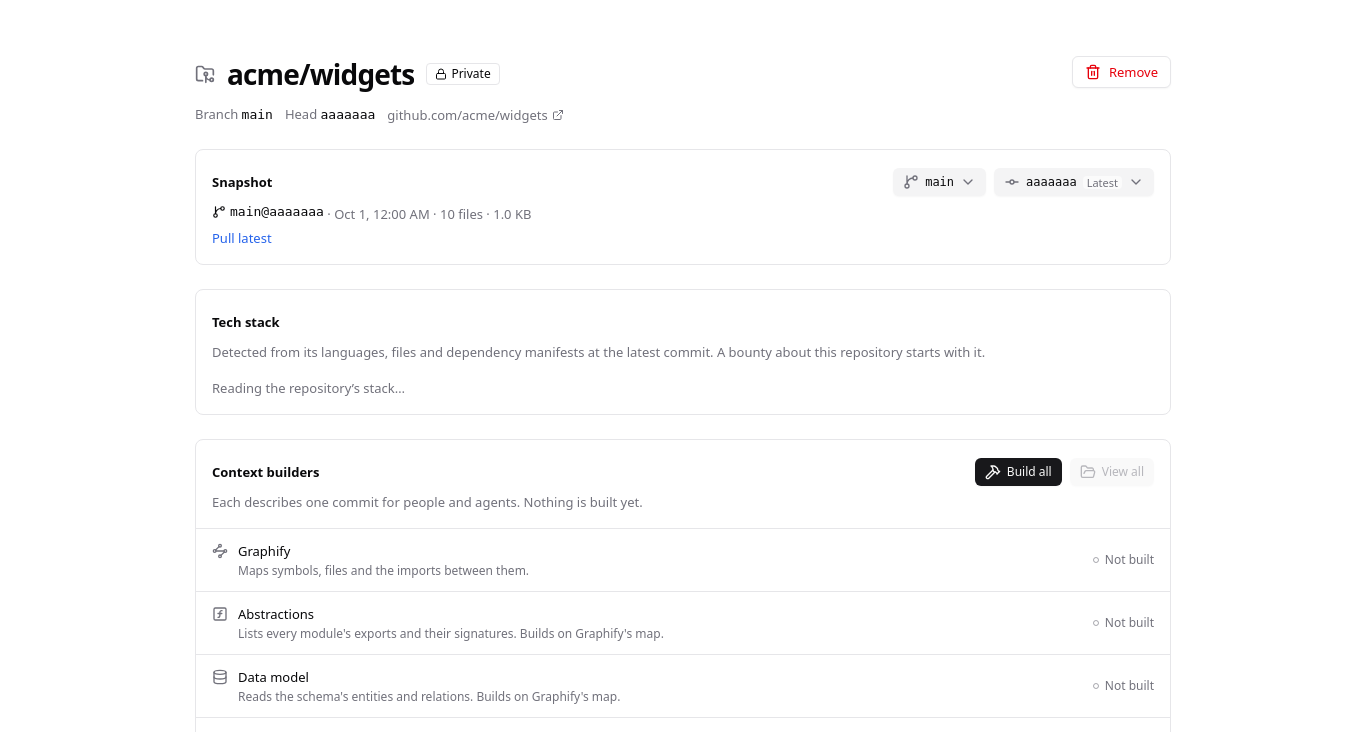
Scenario: the API's refusal of a build is shown on the page
Expected: the text "main@aaaaaaa · Oct 1, 12:00 AM · 10 files · 1.0 KB" is shown, [212, 204, 531, 223]
Click the button "Build all": (1018, 472) [975, 458, 1062, 486]
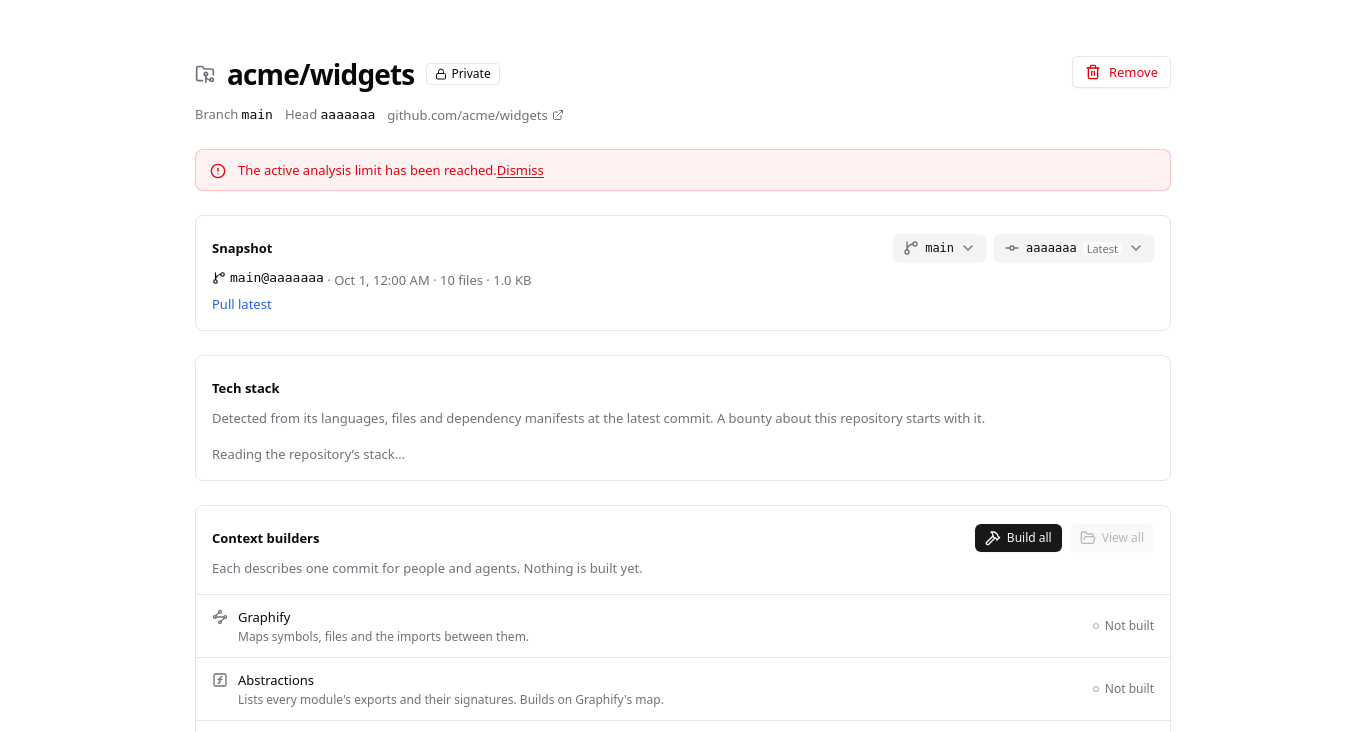
Expected: the text "The active analysis limit has been reached." is shown, [238, 161, 497, 179]
